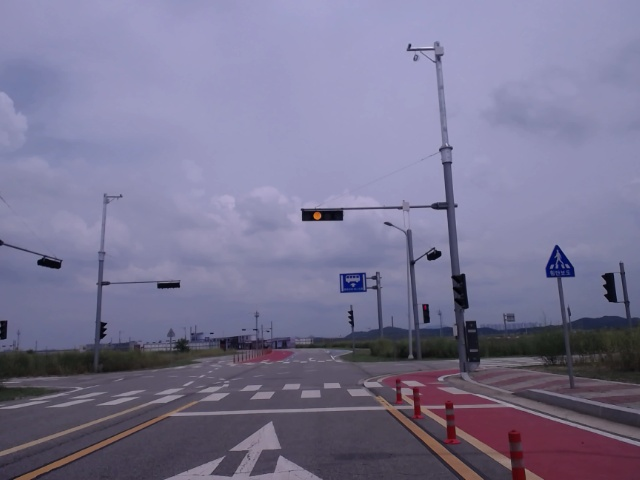orange_4: (301, 207, 344, 222)
